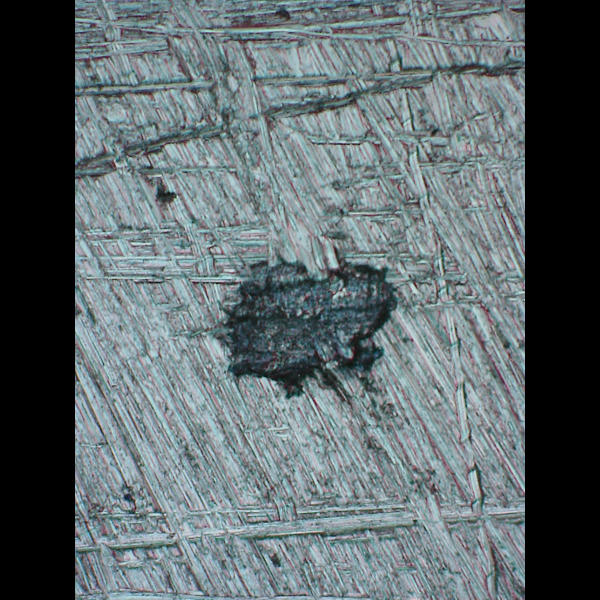d: (198, 250, 407, 403)
